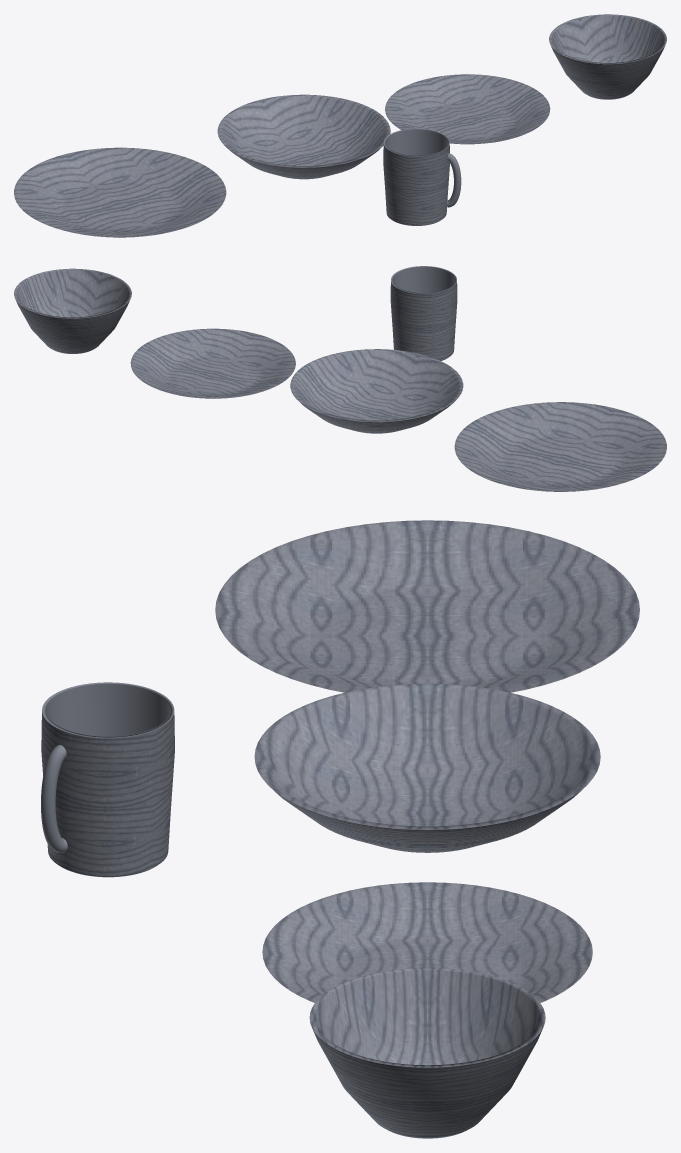
3 renders of one model, top to bottom at view 1: azimuth 30°, elevation 25°; view 2: azimuth 150°, elevation 25°; view 3: azimuth 270°, elevation 25°, orthographic. The views are drawn at different scales.
Size of the model in its own units: 0.926 by 0.1 by 0.3807.
Materials: 11 (9 with a texture image).
